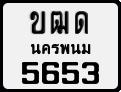letters: (48, 10, 70, 35), (20, 61, 40, 85), (28, 10, 47, 35), (61, 60, 80, 85), (41, 61, 60, 85), (81, 61, 100, 85), (73, 10, 90, 35)
province: (29, 42, 92, 56)
